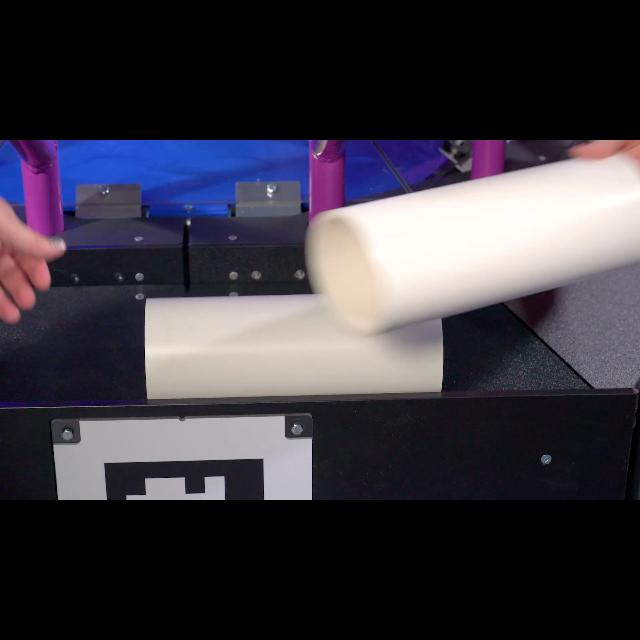CORAL: (304, 149, 638, 337), (143, 292, 444, 400)
